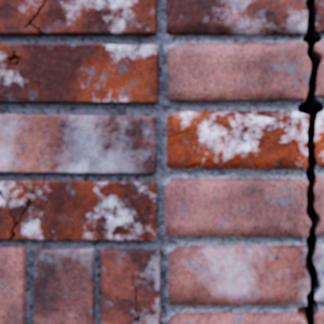brick: (0, 44, 159, 103), (0, 180, 157, 239), (0, 115, 157, 173), (0, 0, 157, 35), (35, 247, 96, 323), (101, 249, 161, 323), (0, 246, 27, 323)
broken_brick: (165, 178, 310, 236), (168, 42, 310, 100), (169, 245, 308, 304), (167, 111, 308, 168), (167, 0, 307, 35), (168, 312, 305, 323), (313, 242, 323, 300), (314, 176, 323, 234), (314, 110, 323, 165), (315, 40, 323, 97), (315, 0, 323, 33), (315, 309, 323, 323)
crack: (296, 0, 323, 323), (25, 0, 47, 33), (133, 272, 146, 323), (9, 210, 25, 239), (168, 129, 191, 137), (9, 51, 22, 65), (0, 189, 10, 206), (25, 197, 32, 208), (0, 97, 16, 99)
